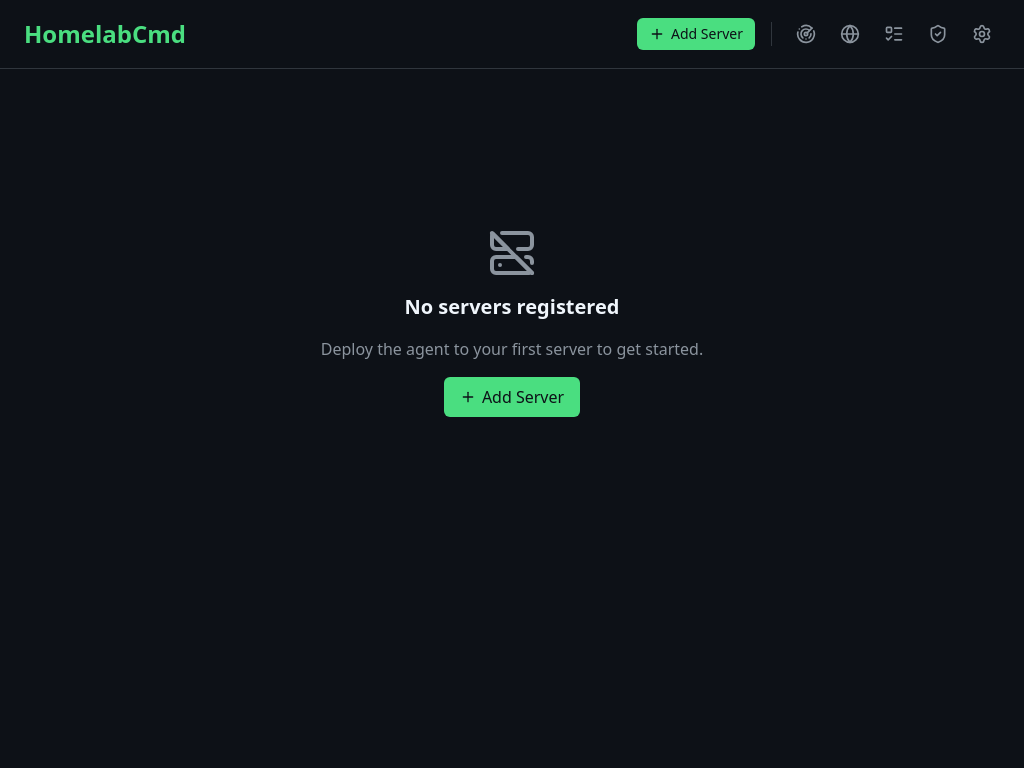
Test: Dashboard › empty server state › opens AddServerModal when Add Server clicked in empty state
Click the button with test id "add-server-button-empty": x=512, y=397 [444, 377, 580, 417]
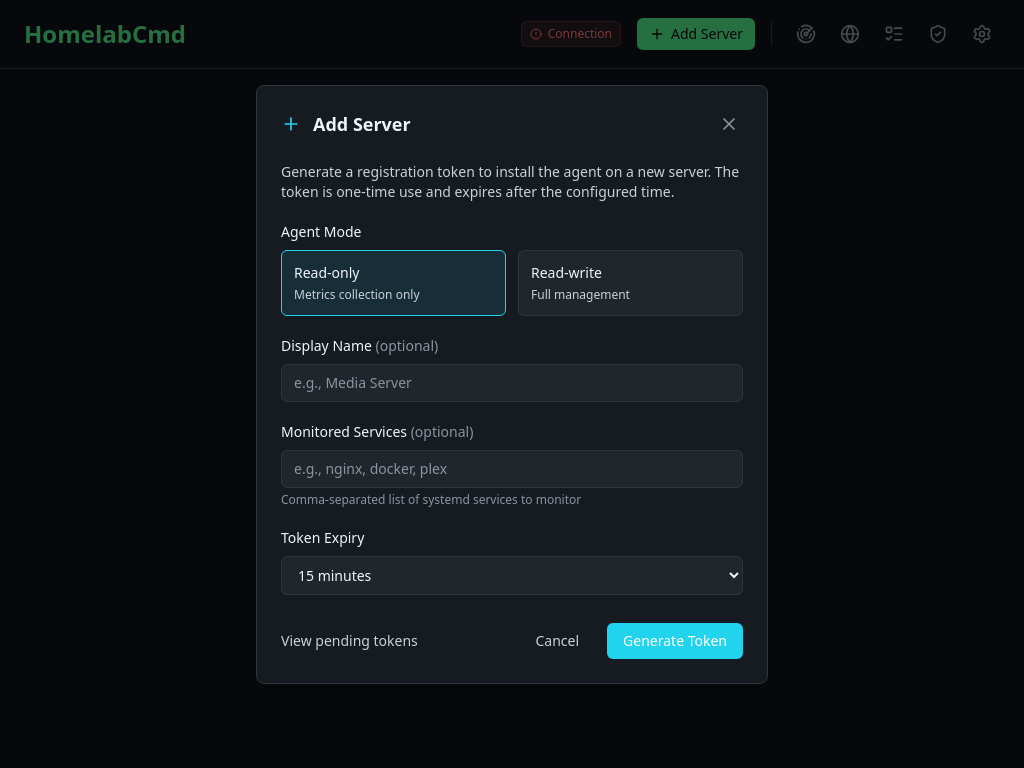
Check: the element with test id "add-server-modal" is shown
